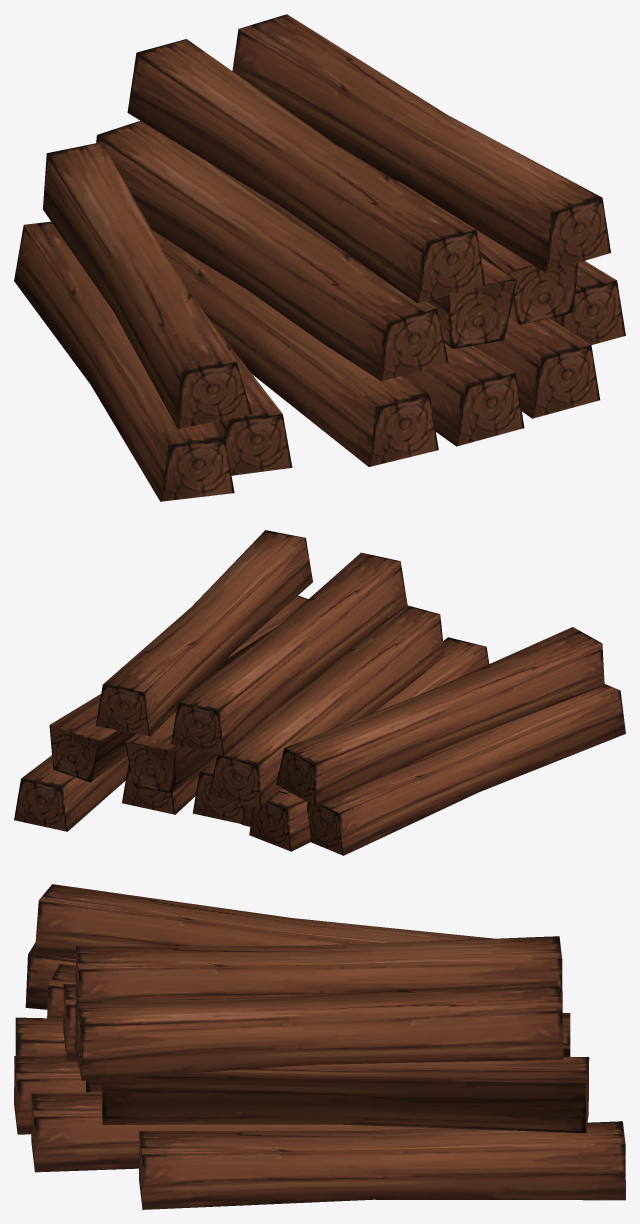
File: 2_YiZhan_ZaWu_MuTouDui_03.FBX
3 views of the same model, one above another, from view 1: azimuth 30°, elevation 25°; view 2: azimuth 150°, elevation 25°; view 3: azimuth 270°, elevation 25° (orthographic). The views are drawn at different scales.
Visible parts, largest first — view 1: 2_YiZhan_ZaWu_MuTouDui_03, 2_YiZhan_ZaWu_MuTouDui_04; view 2: 2_YiZhan_ZaWu_MuTouDui_03, 2_YiZhan_ZaWu_MuTouDui_04; view 3: 2_YiZhan_ZaWu_MuTouDui_03, 2_YiZhan_ZaWu_MuTouDui_04.
Part boxes in pixels (left/top/right/bottom): 2_YiZhan_ZaWu_MuTouDui_03: left=96, top=14, right=625, bottom=466; 2_YiZhan_ZaWu_MuTouDui_04: left=14, top=142, right=292, bottom=501; 2_YiZhan_ZaWu_MuTouDui_03: left=14, top=530, right=489, bottom=831; 2_YiZhan_ZaWu_MuTouDui_04: left=249, top=627, right=625, bottom=855; 2_YiZhan_ZaWu_MuTouDui_03: left=14, top=936, right=625, bottom=1209; 2_YiZhan_ZaWu_MuTouDui_04: left=25, top=884, right=492, bottom=1018.
Size of the model in its own units: 338 by 110 by 382.
1 material, 1 textured.
